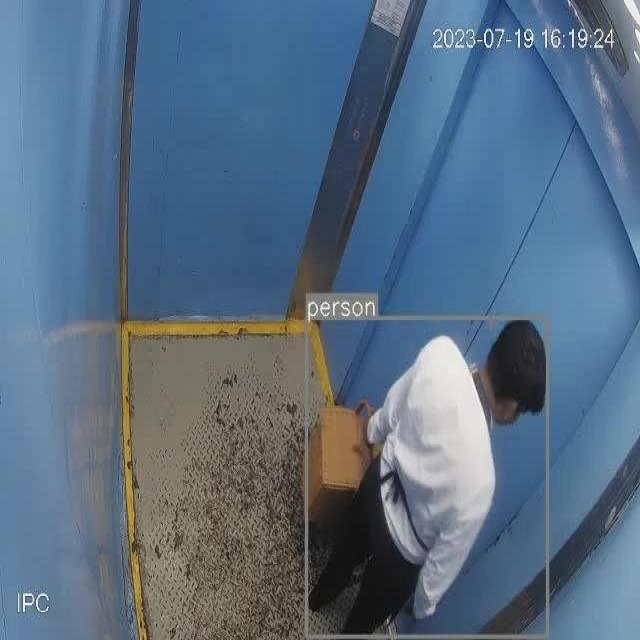person: (308, 321, 548, 639)
